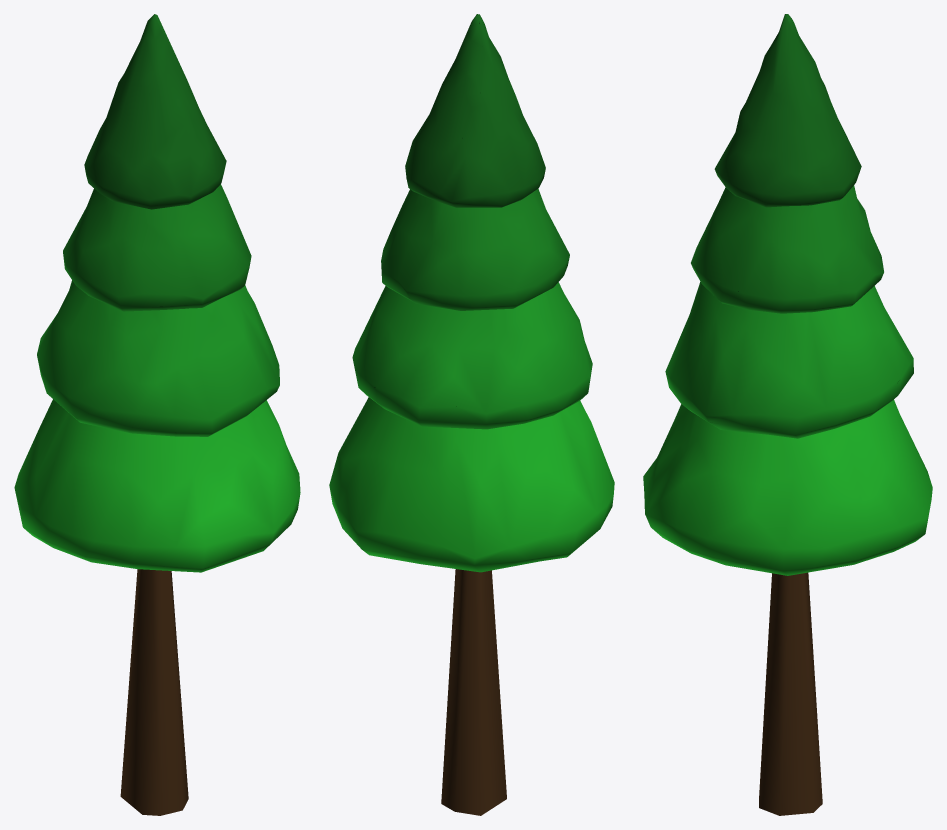
The model's file is pine tree.fbx.
3 renders of one model, left to right at view 1: azimuth 30°, elevation 25°; view 2: azimuth 150°, elevation 25°; view 3: azimuth 270°, elevation 25°, orthographic.
Visible parts, largest first — view 1: arbre; view 2: arbre; view 3: arbre.
Part boxes in pixels (x1,y1,x2,y2): arbre: (14, 14, 300, 815); arbre: (329, 14, 614, 815); arbre: (643, 14, 932, 815).
Size of the model in its own units: 175 by 525 by 175.
